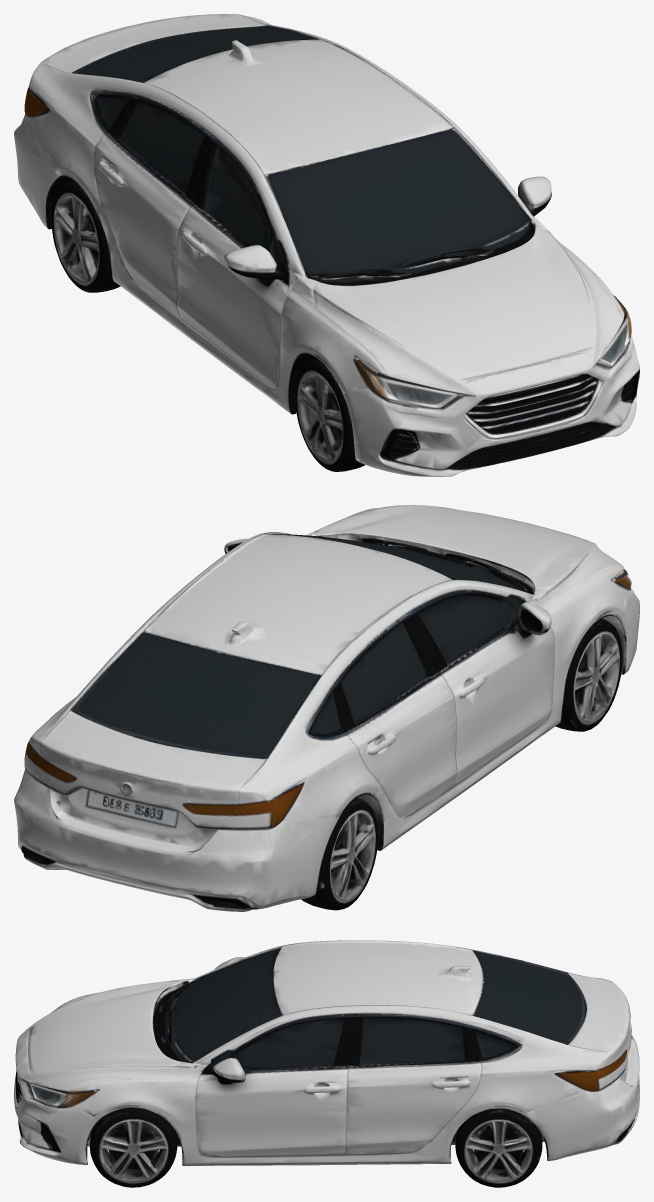
The picture shows the model from 3 angles, top to bottom: view 1: azimuth 30°, elevation 25°; view 2: azimuth 150°, elevation 25°; view 3: azimuth 270°, elevation 25°; orthographic projection. The views are drawn at different scales.
Parts seen in each view (by area): view 1: node_0; view 2: node_0; view 3: node_0.
Boxes of the visible parts, bbox=[...] form: node_0: bbox=[14, 14, 639, 476]; node_0: bbox=[14, 505, 639, 911]; node_0: bbox=[14, 940, 639, 1187].
Bounding box in the file's own units: 0.5179 × 0.3562 × 1.17.
1 material, 1 textured.
